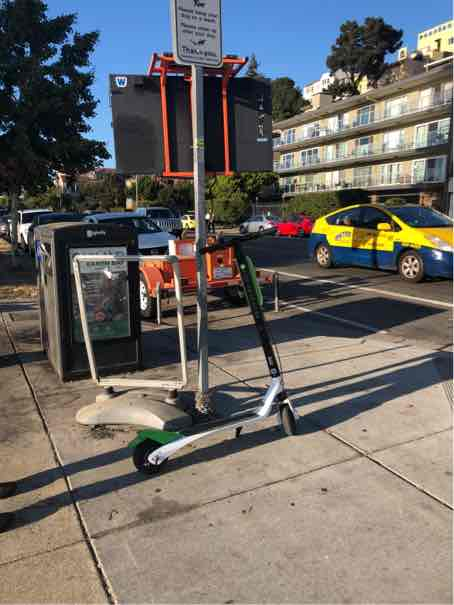scooter: (126, 231, 308, 488)
